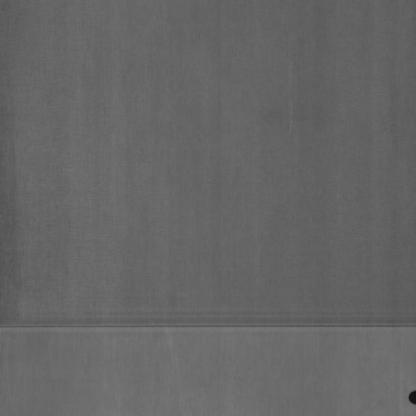punching_hole: (406, 388, 416, 406)
welding_line: (2, 316, 416, 340)
